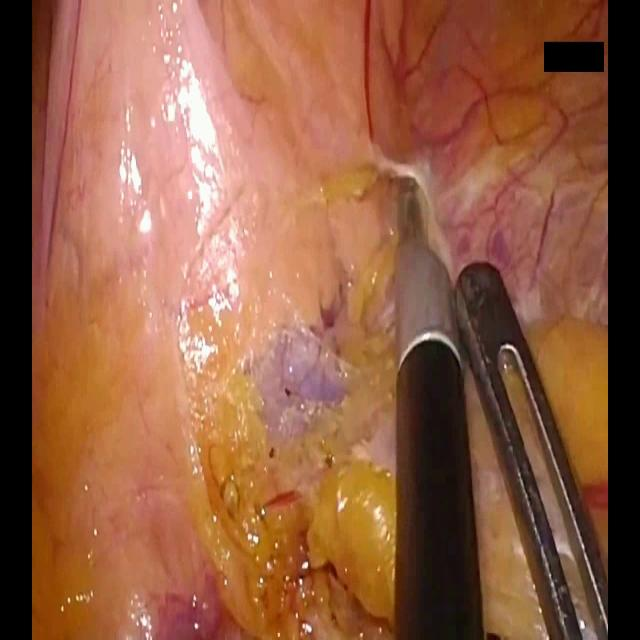surgical-area: (32, 0, 608, 639)
surgical-tool: (455, 260, 608, 639), (392, 172, 484, 639)
